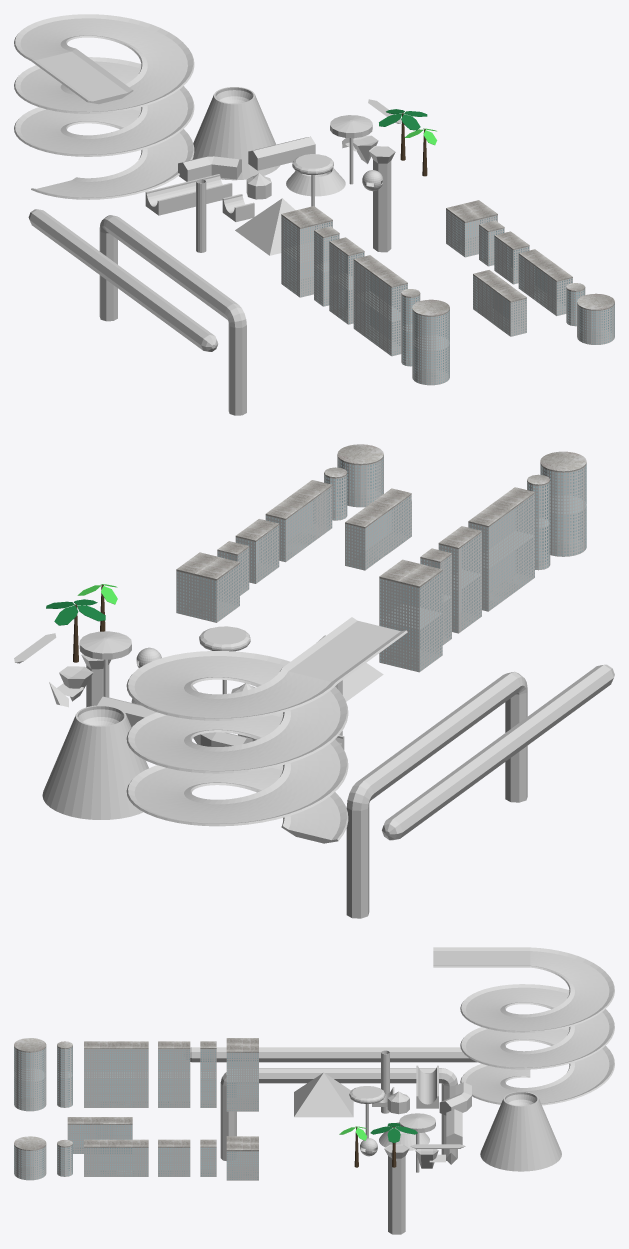
The model's file is bricktex_base.fbx.
3 renders of one model, top to bottom at view 1: azimuth 30°, elevation 25°; view 2: azimuth 150°, elevation 25°; view 3: azimuth 270°, elevation 25°, orthographic. The views are drawn at different scales.
Parts seen in each view (by area): view 1: Track, GrindrailGround, Volcano, GrindrailFloating, Long_2_Tall, Cylinder_Large_Tall, Square_Tall, Long_2.001, Long_2, Long_1_Tall, HalfpipeLong, Square (+17 smaller); view 2: Track, GrindrailGround, Volcano, GrindrailFloating, Square_Tall, Long_2_Tall, Cylinder_Large_Tall, Long_2.001, Square, Long_2, Long_1_Tall, Cylinder_Large (+13 smaller); view 3: Track, Volcano, Long_2_Tall, GrindrailGround, GrindrailFloating, Long_2, Square_Tall, Cylinder_Large_Tall, Long_1_Tall, Pyramid, Long_2.001, GemBuilding (+16 smaller).
Part boxes in pixels (left/top/right/bottom): Track: left=14, top=14, right=194, bottom=199; GrindrailGround: left=99, top=215, right=246, bottom=415; Volcano: left=192, top=87, right=279, bottom=180; GrindrailFloating: left=28, top=209, right=218, bottom=351; Long_2_Tall: left=353, top=255, right=407, bottom=356; Cylinder_Large_Tall: left=412, top=299, right=449, bottom=385; Square_Tall: left=281, top=206, right=332, bottom=297; Long_2.001: left=473, top=270, right=526, bottom=336; Long_2: left=518, top=249, right=572, bottom=315; Long_1_Tall: left=329, top=237, right=364, bottom=324; HalfpipeLong: left=145, top=174, right=232, bottom=215; Square: left=446, top=200, right=497, bottom=257; Track: left=126, top=617, right=407, bottom=843; GrindrailGround: left=346, top=671, right=527, bottom=918; Volcano: left=42, top=705, right=148, bottom=819; GrindrailFloating: left=382, top=664, right=614, bottom=840; Square_Tall: left=379, top=559, right=442, bottom=672; Long_2_Tall: left=468, top=487, right=534, bottom=611; Cylinder_Large_Tall: left=540, top=451, right=586, bottom=556; Long_2.001: left=345, top=488, right=411, bottom=570; Square: left=176, top=552, right=239, bottom=622; Long_2: left=265, top=480, right=332, bottom=562; Long_1_Tall: left=438, top=526, right=481, bottom=633; Cylinder_Large: left=337, top=444, right=383, bottom=507; Track: left=433, top=947, right=614, bottom=1105; Volcano: left=480, top=1091, right=561, bottom=1171; Long_2_Tall: left=84, top=1041, right=148, bottom=1107; GrindrailGround: left=220, top=1068, right=457, bottom=1160; GrindrailFloating: left=190, top=1047, right=476, bottom=1062; Long_2: left=84, top=1139, right=148, bottom=1176; Square_Tall: left=226, top=1038, right=258, bottom=1111; Cylinder_Large_Tall: left=14, top=1038, right=46, bottom=1111; Long_1_Tall: left=158, top=1041, right=190, bottom=1107; Pyramid: left=294, top=1072, right=353, bottom=1117; Long_2.001: left=67, top=1117, right=132, bottom=1153; GemBuilding: left=384, top=1144, right=409, bottom=1234.
Bounding box in the file's own units: 4195 × 2694 × 7406.
